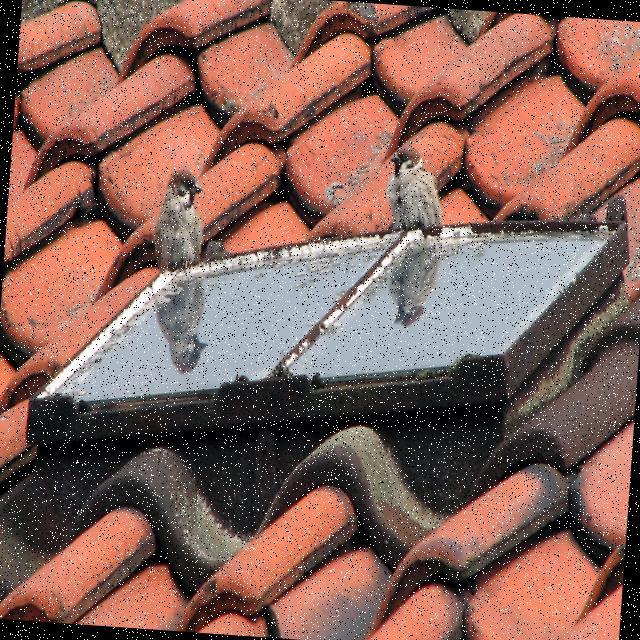bird: (149, 271, 213, 377), (150, 165, 208, 278), (381, 146, 448, 240), (383, 228, 444, 329)
